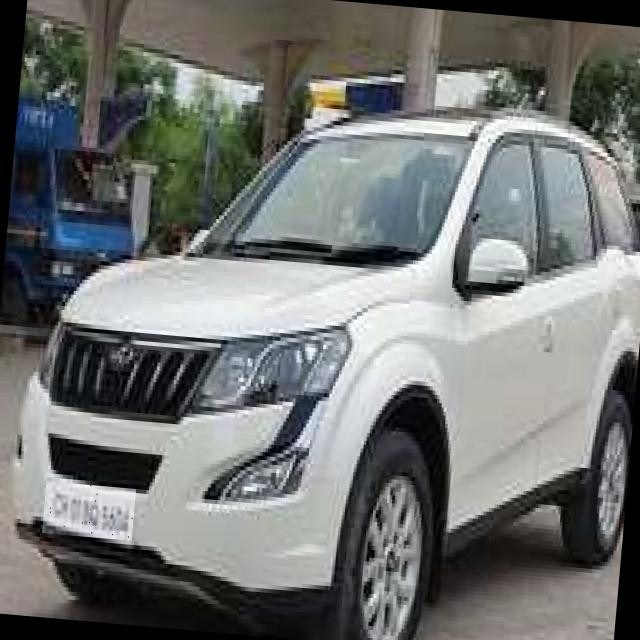Plate: (43, 482, 137, 542)
